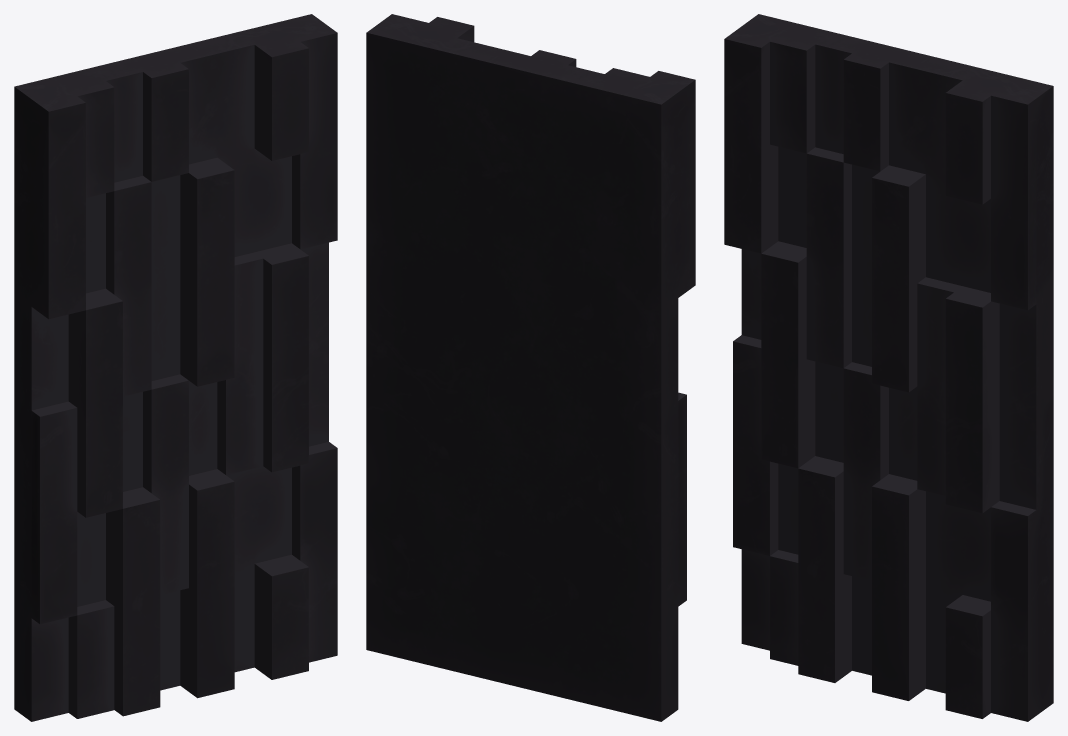
The model's file is WallDeco.FBX.
The picture shows the model from 3 angles, left to right: view 1: azimuth 30°, elevation 25°; view 2: azimuth 150°, elevation 25°; view 3: azimuth 330°, elevation 25°; orthographic projection.
Visible parts, largest first — view 1: WallDeco; view 2: WallDeco; view 3: WallDeco.
Boxes of the visible parts, x1,y1,x2,y2 form: WallDeco: (14,14,337,721); WallDeco: (366,14,695,721); WallDeco: (724,14,1053,721).
Size of the model in its own units: 100 by 200 by 20.
